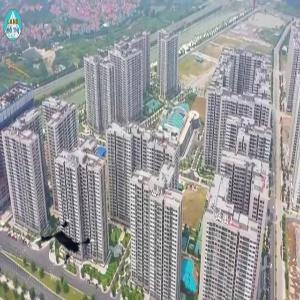drone: (28, 211, 104, 287)
